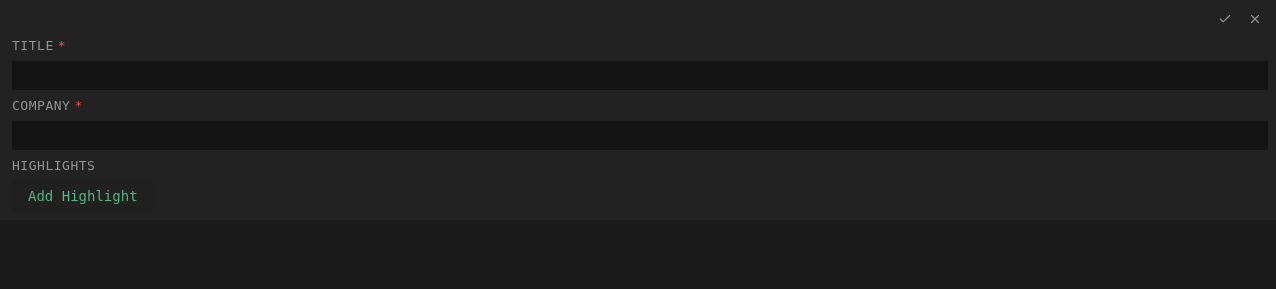
it: EntryForm › uses workExperienceSchema for experience forms
Click the button named "save" at (1225, 19), box left=1212, top=8, right=1238, bottom=30
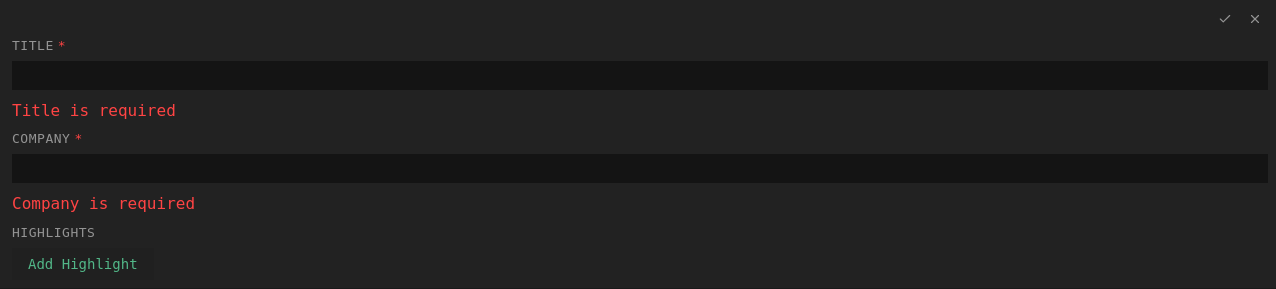
Expected: the text "Title is required" is shown, left=12, top=101, right=176, bottom=120
